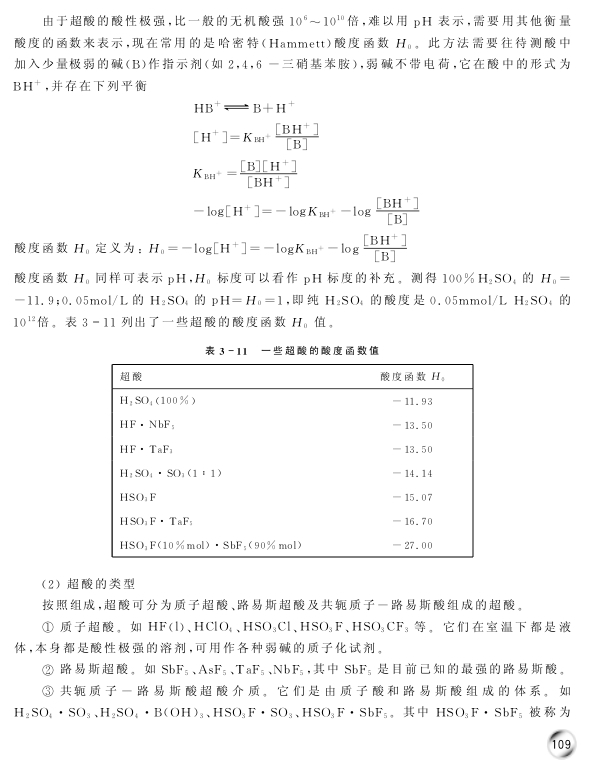table: (111, 364, 474, 558)
